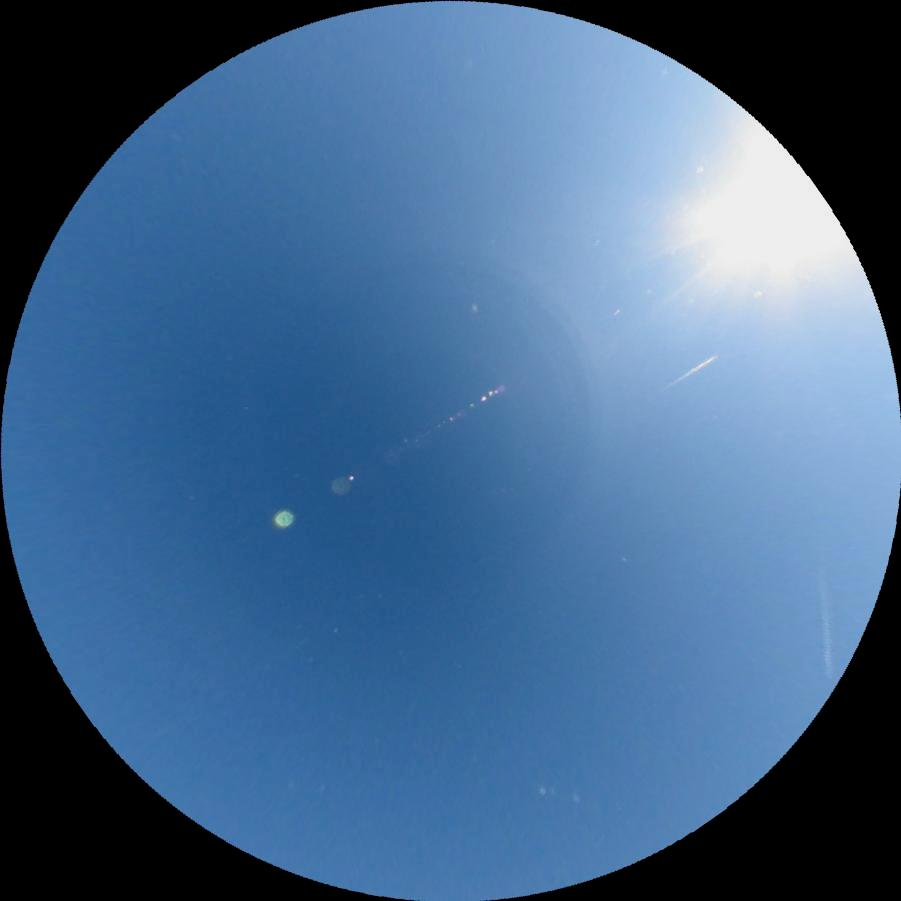contrail young: (815, 563, 835, 682), (663, 350, 718, 390)
sun: (657, 113, 861, 325)
